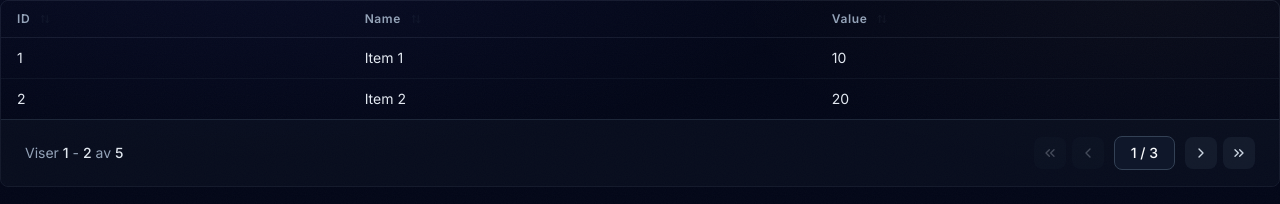
it: DataTable › navigates to next page when next button is clicked
// Click the next page button
What coordinates should you click on to do the following:
click the button named "Neste"
I would click on:
 (1201, 153)
Its box is [1185, 137, 1217, 169].
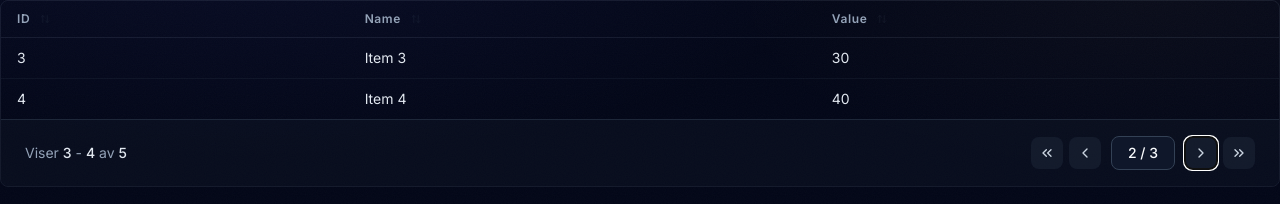
Expected: the text "Item 3" is shown, [349, 38, 816, 78]
Expected: the text "Item 4" is shown, [349, 78, 816, 119]
Expected: the text "Item 1" is gone
